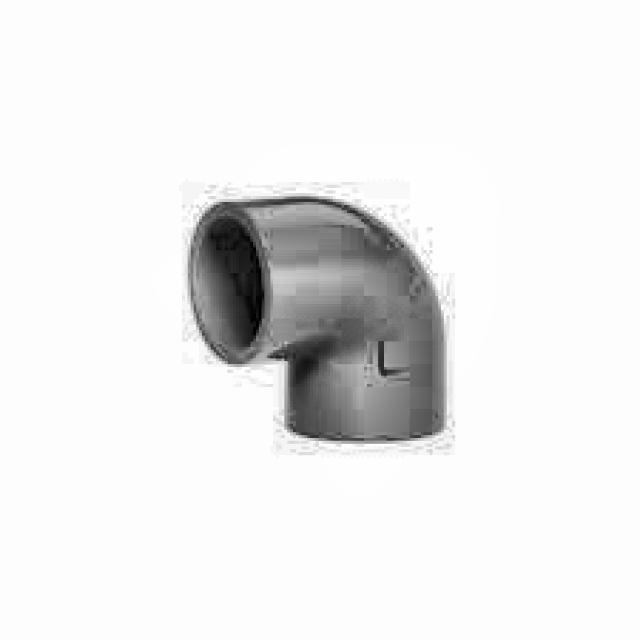ELBOW90: (185, 196, 447, 447)
